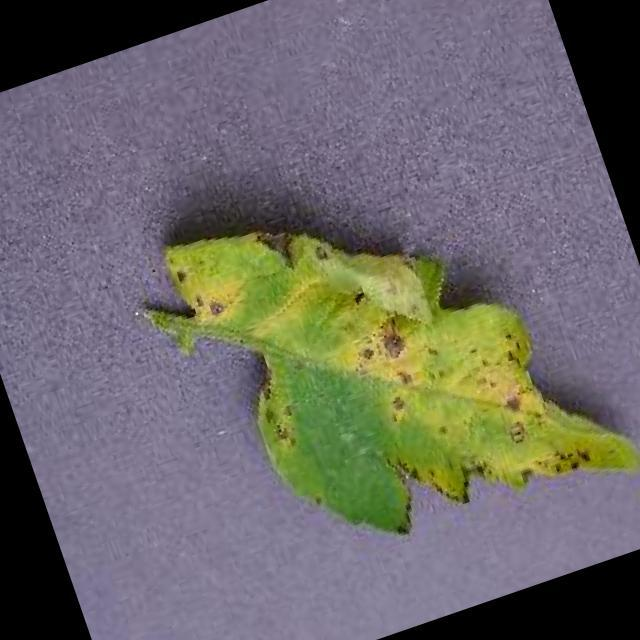Tomato Septoria spot leaf: (155, 116, 640, 599)
